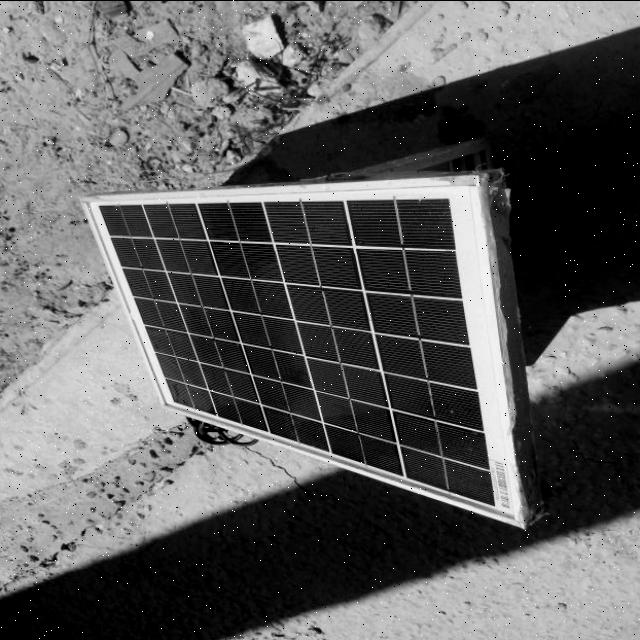Normal Solar Panel: (78, 175, 520, 525)
